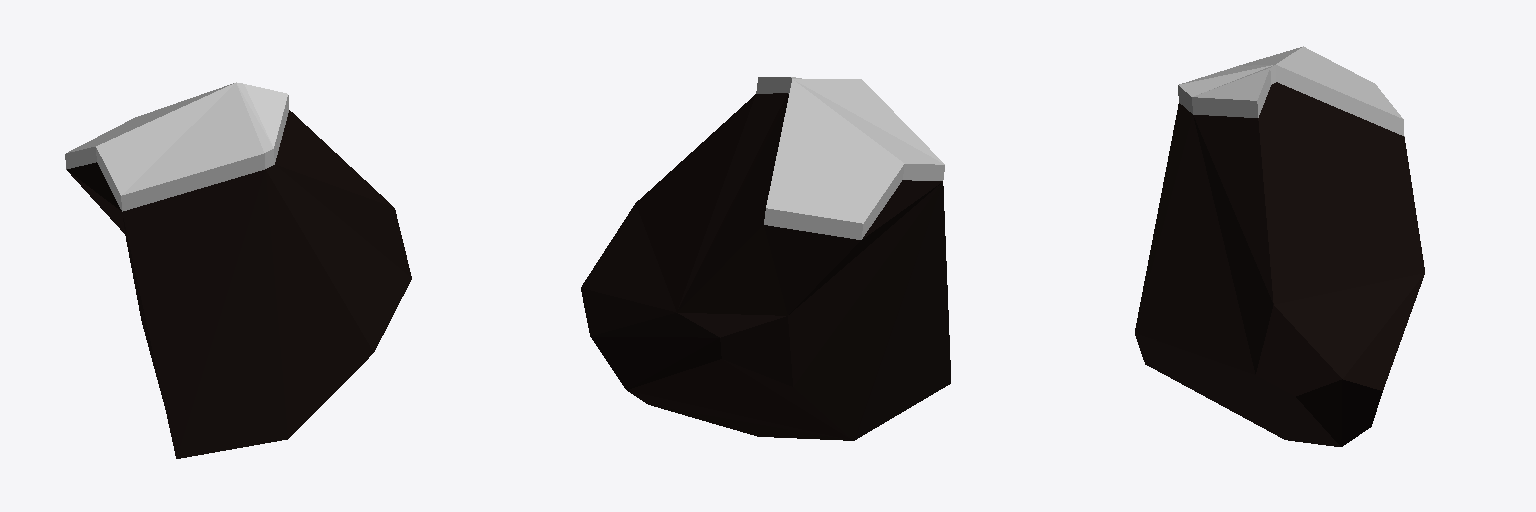
Rendered from Rock_10.obj.
3 views of the same model, side by side, from view 1: azimuth 30°, elevation 25°; view 2: azimuth 150°, elevation 25°; view 3: azimuth 270°, elevation 25° (orthographic).
Parts seen in each view (by area): view 1: Cube.008_Cube.009; view 2: Cube.008_Cube.009; view 3: Cube.008_Cube.009.
Part boxes in pixels (bbox=[...]): Cube.008_Cube.009: bbox=[65, 82, 411, 458]; Cube.008_Cube.009: bbox=[581, 77, 950, 440]; Cube.008_Cube.009: bbox=[1135, 46, 1424, 446].
Size of the model in its own units: 1.17 by 1.29 by 0.9399.